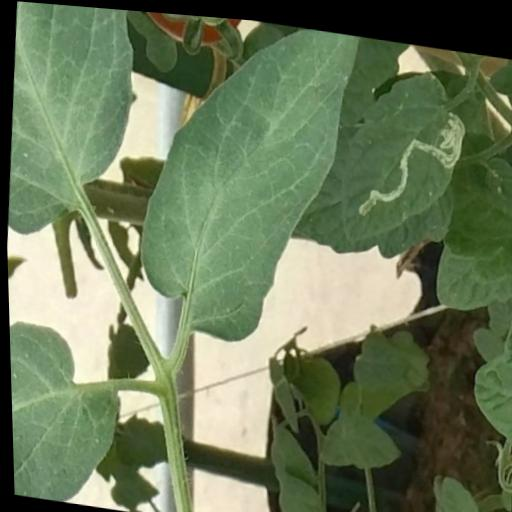Healthy: (123, 8, 377, 359), (1, 0, 142, 247), (316, 399, 403, 469)
Leaf_Miner: (328, 49, 476, 254)
